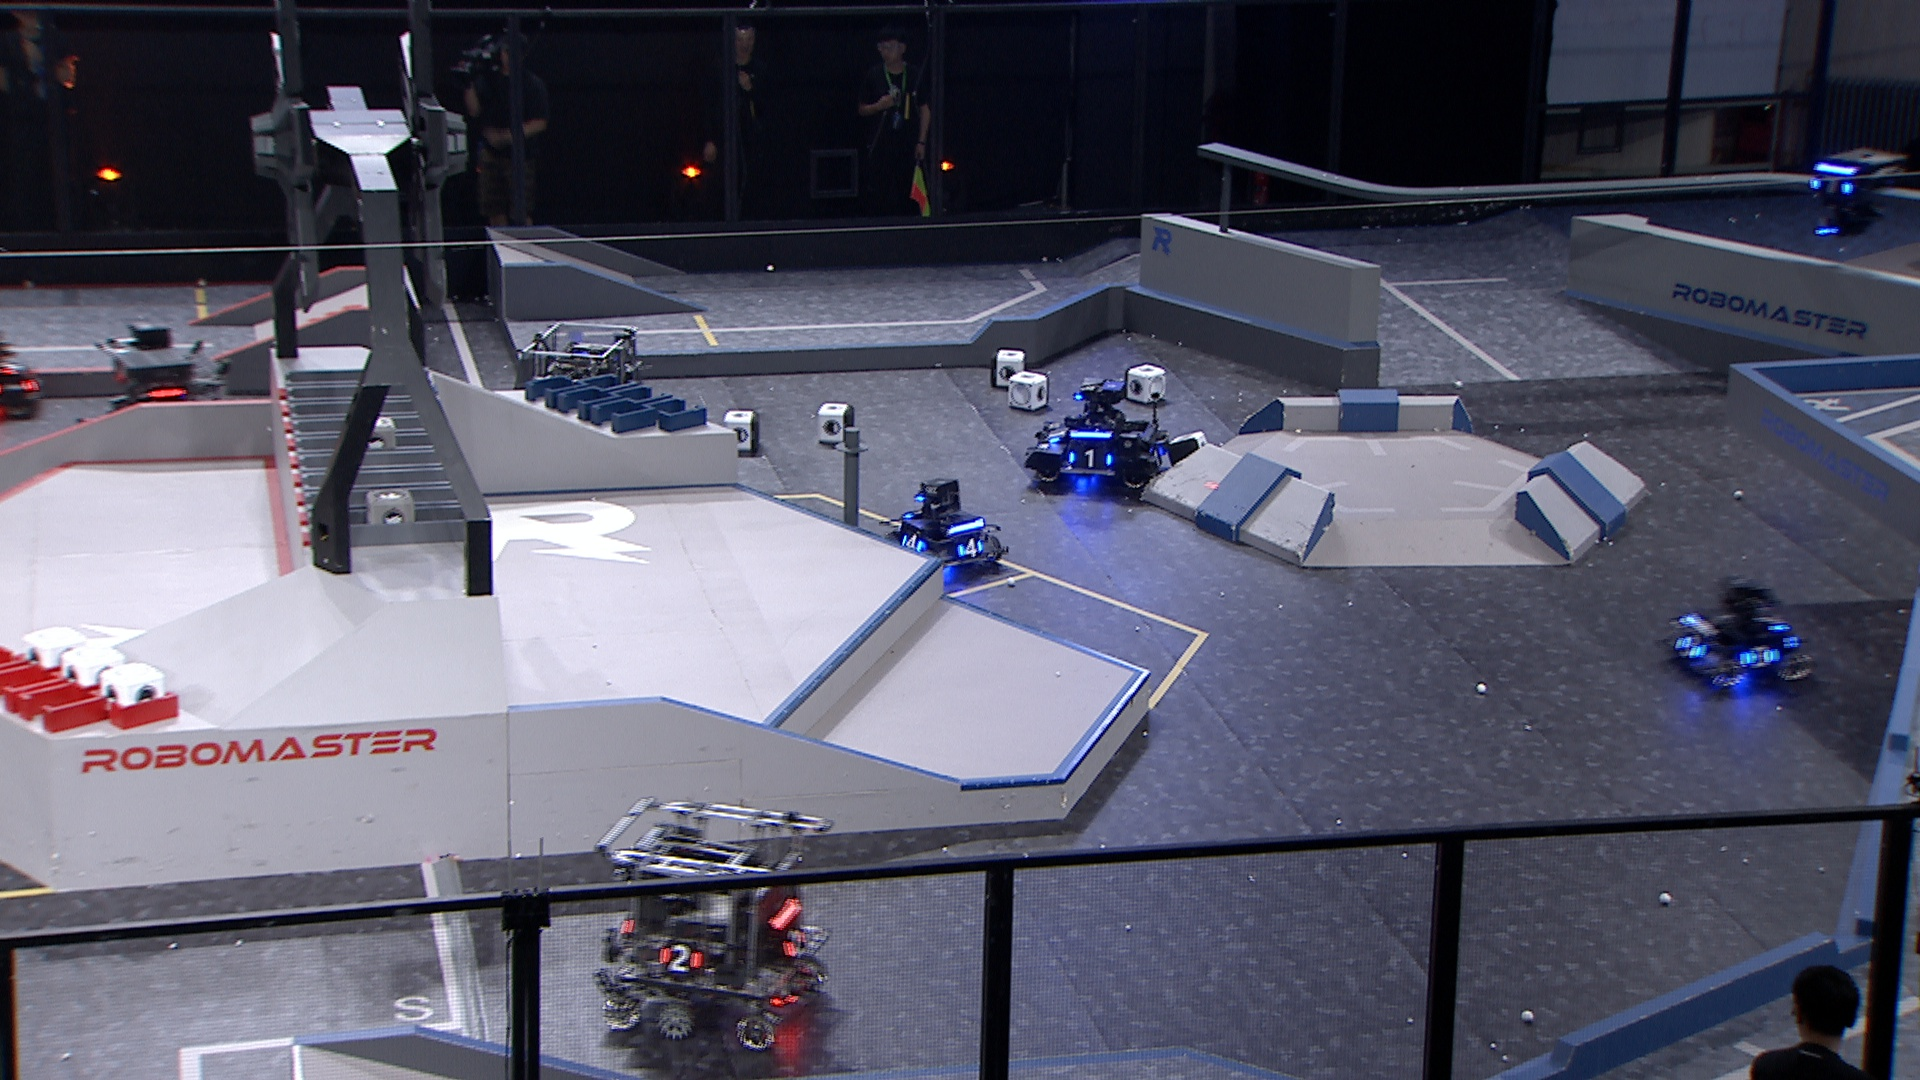armor: (657, 945, 699, 975), (1069, 448, 1112, 469), (785, 924, 808, 960), (1811, 174, 1851, 194), (1746, 647, 1780, 669), (1673, 636, 1706, 657), (955, 538, 984, 556), (1046, 423, 1067, 448), (901, 531, 922, 551), (1153, 444, 1167, 469), (1, 357, 20, 376), (1760, 616, 1780, 629)
car: (588, 790, 829, 1055), (117, 318, 291, 467), (513, 316, 667, 458), (74, 343, 225, 479), (1664, 575, 1817, 690), (1022, 376, 1168, 495), (880, 480, 1006, 576)
watcher: (1795, 142, 1908, 249)
